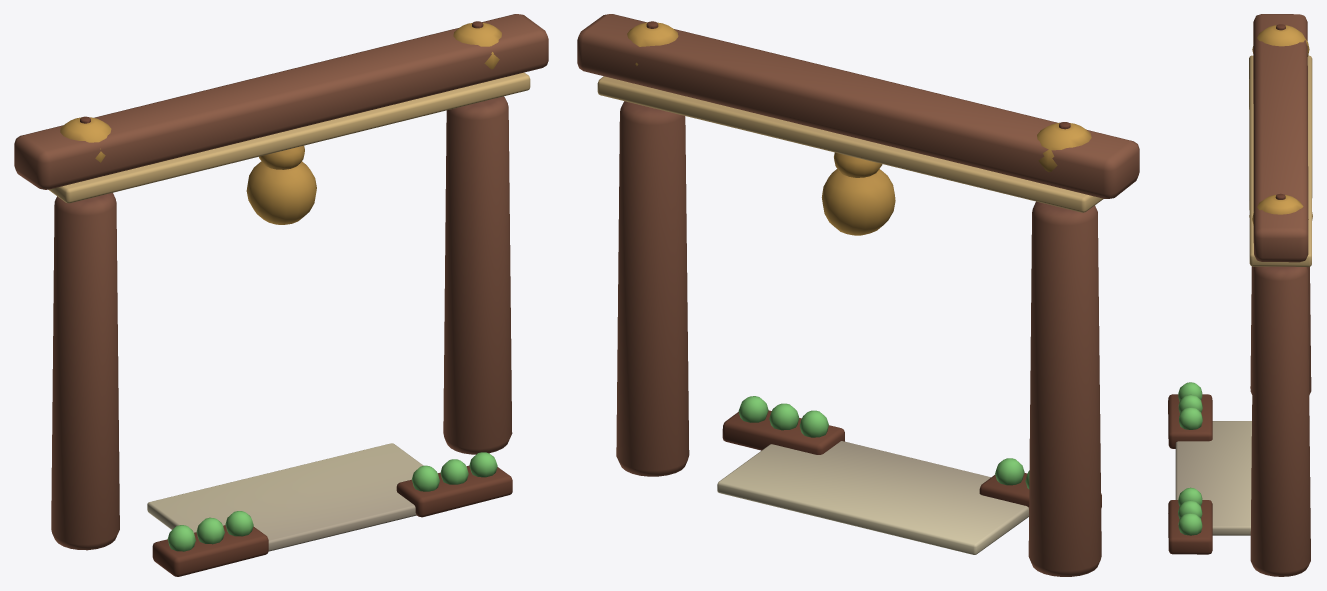
The picture shows the model from 3 angles, left to right: view 1: azimuth 30°, elevation 25°; view 2: azimuth 150°, elevation 25°; view 3: azimuth 270°, elevation 25°; orthographic projection. The views are drawn at different scales.
Visible parts, largest first — view 1: gate_8636c98c; view 2: gate_8636c98c; view 3: gate_8636c98c.
Boxes of the visible parts, x1,y1,x2,y2 form: gate_8636c98c: [14, 14, 548, 576]; gate_8636c98c: [577, 14, 1139, 576]; gate_8636c98c: [1168, 14, 1312, 576].
Size of the model in its own units: 4.98 by 3.92 by 1.38.
